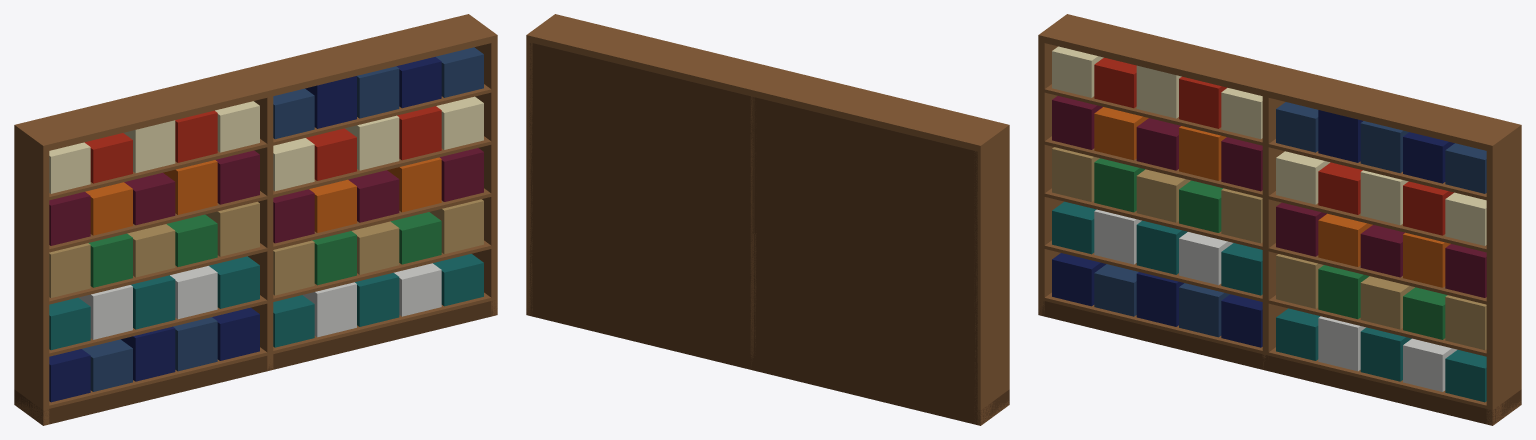
File: prop_bookshelf.14a84f6723cc.glb
3 renders of one model, left to right at view 1: azimuth 30°, elevation 25°; view 2: azimuth 150°, elevation 25°; view 3: azimuth 330°, elevation 25°, orthographic.
Visible parts, largest first — view 1: body; view 2: body; view 3: body.
Boxes of the visible parts, bbox=[...] form: body: bbox=[14, 14, 497, 425]; body: bbox=[526, 14, 1009, 425]; body: bbox=[1038, 14, 1521, 425].
Size of the model in its own units: 3.65 by 2.15 by 0.4.
